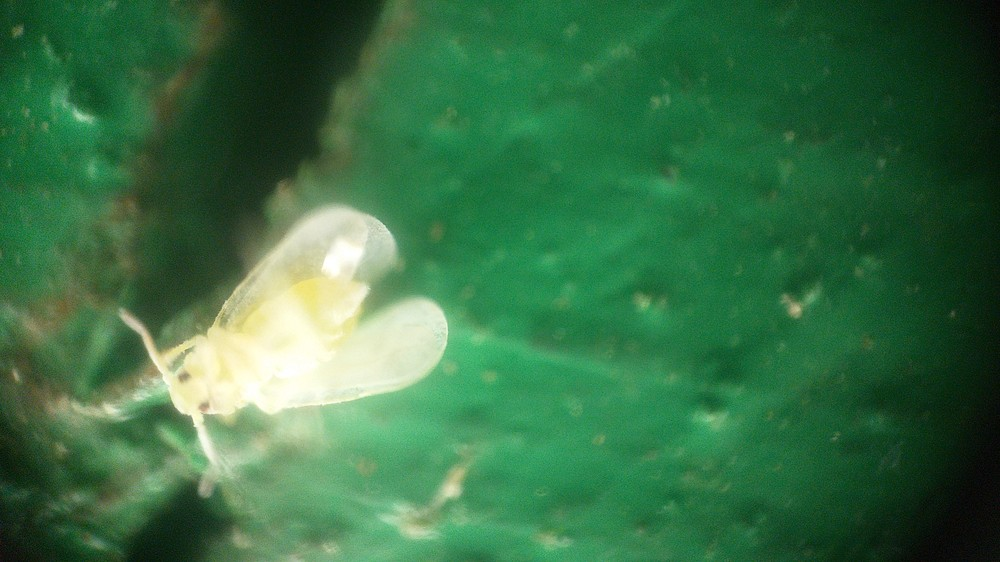Mosca Blanca: (106, 204, 456, 486)
